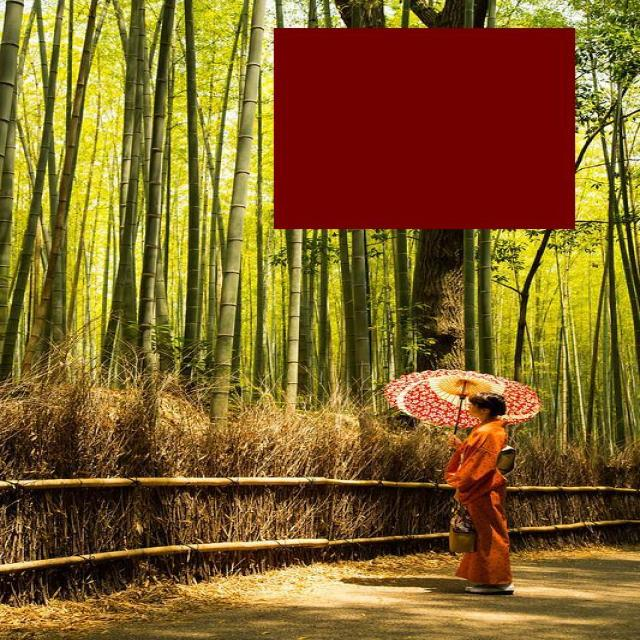RedSquare: (260, 20, 582, 236)
